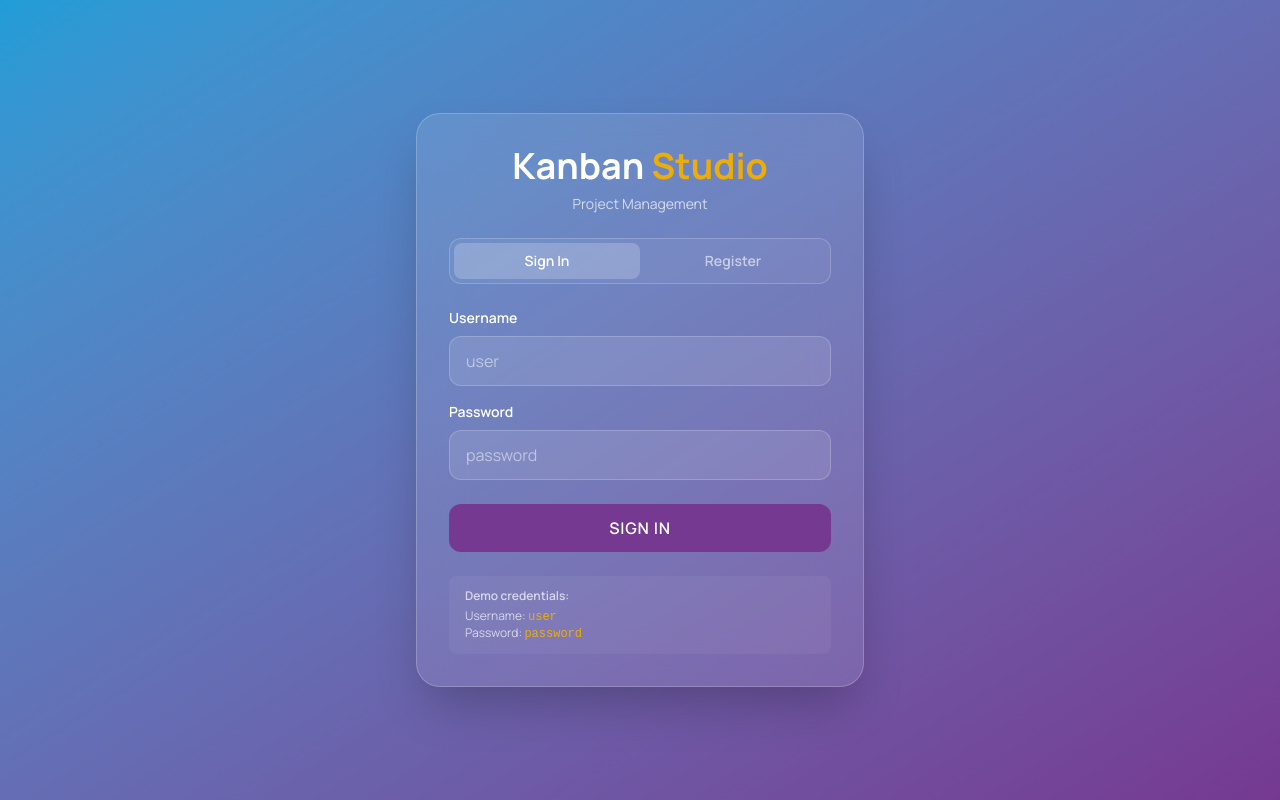
Test: LoginForm › switches to register mode
The image size is (1280, 800).
Click the button "Register": [733, 261] box [640,243,826,279]
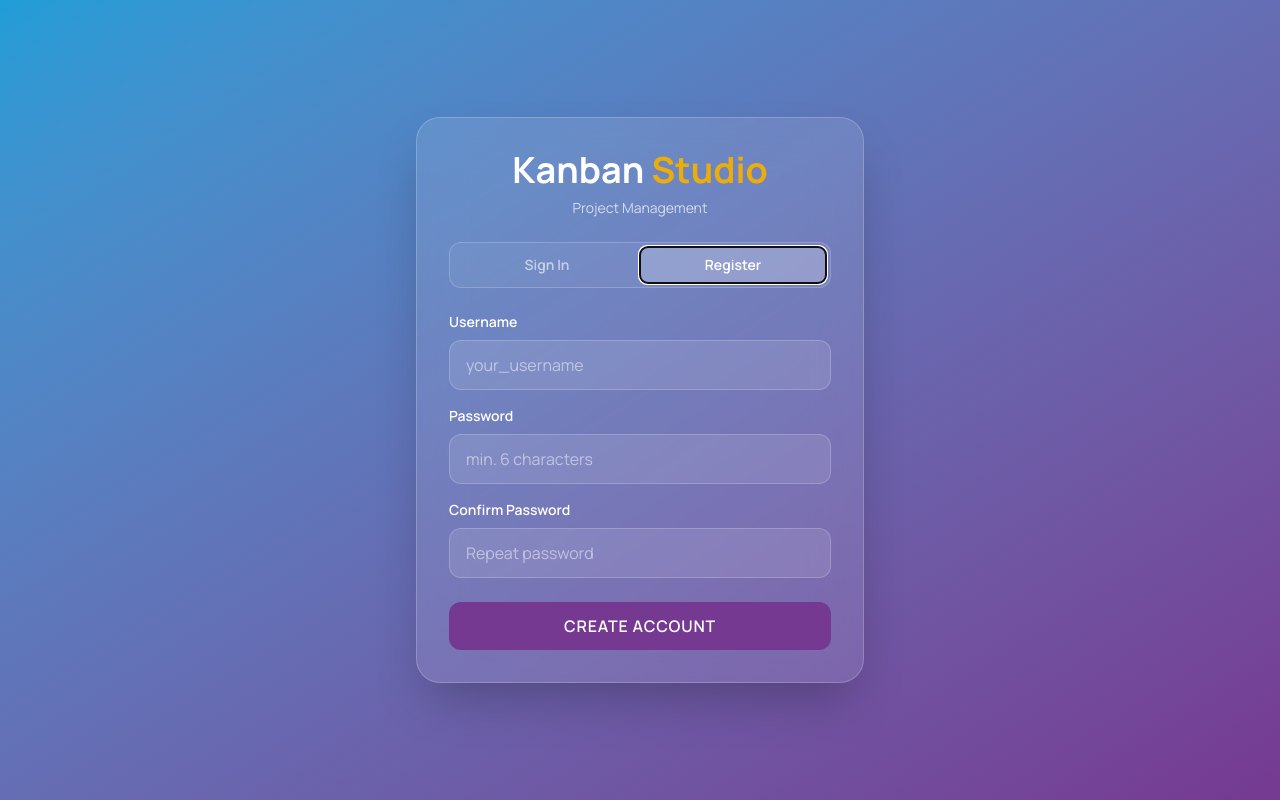
Result: the password field labelled "Confirm Password" is shown at [449,528,831,578]
Result: the button "Create Account" is shown at [449,602,831,650]
